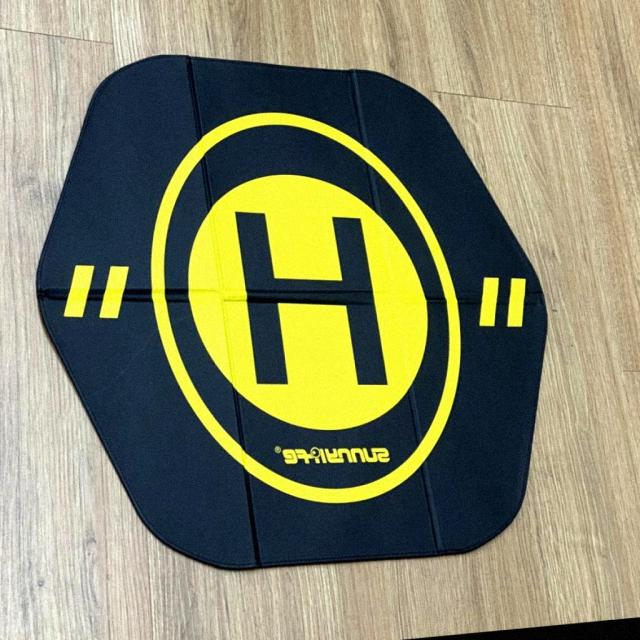helipad: (140, 104, 468, 508)
